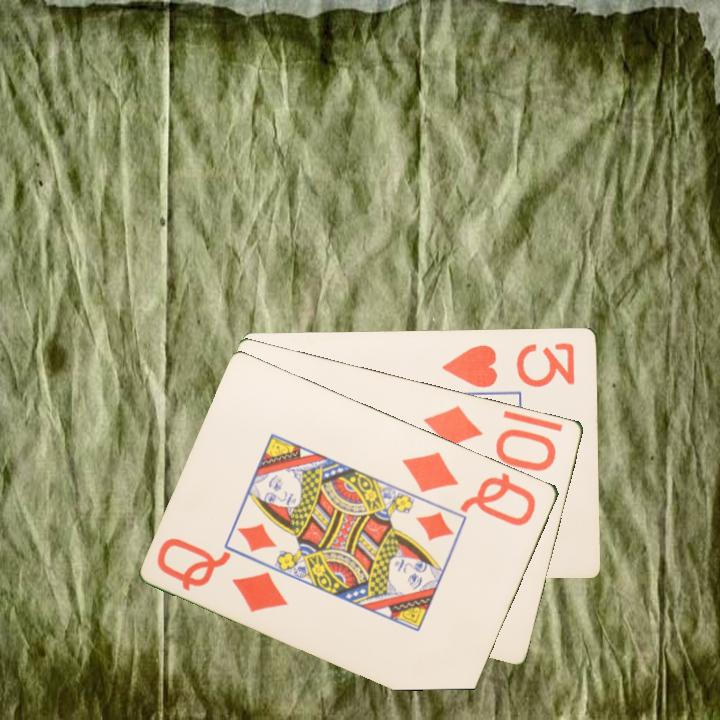10d: (420, 401, 560, 474)
3h: (439, 339, 578, 390)
Qd: (398, 447, 540, 529), (153, 533, 292, 616)
